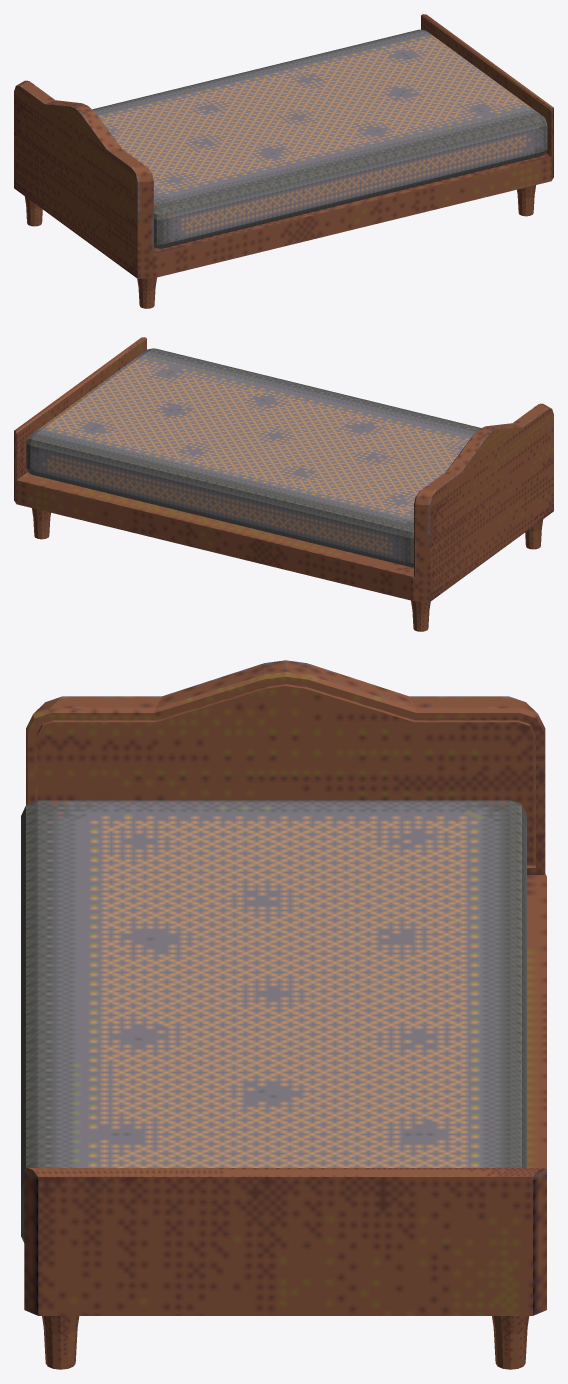
The model's file is Cama_01.fbx.
The picture shows the model from 3 angles, top to bottom: view 1: azimuth 30°, elevation 25°; view 2: azimuth 150°, elevation 25°; view 3: azimuth 270°, elevation 25°; orthographic projection. The views are drawn at different scales.
Parts seen in each view (by area): view 1: Cube.010; view 2: Cube.010; view 3: Cube.010.
Part boxes in pixels (box(x1,y1,x2,y2)): Cube.010: box(14, 14, 553, 308); Cube.010: box(14, 337, 553, 631); Cube.010: box(21, 660, 546, 1369).
Size of the model in its own units: 211 by 77.29 by 115.
